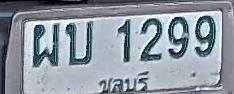1: (118, 19, 130, 62)
2: (140, 18, 162, 60)
9: (194, 15, 216, 57), (168, 16, 188, 58)
A26: (65, 21, 93, 65)
A28: (32, 24, 59, 66)
CBI: (96, 70, 150, 94)
